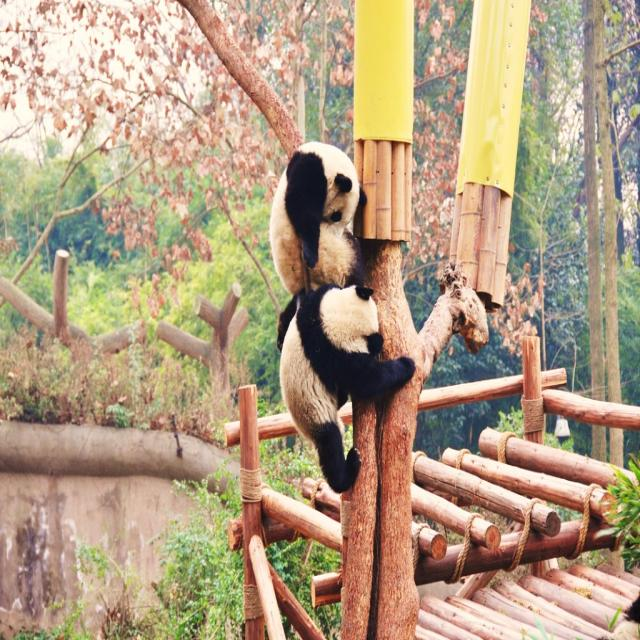panda: (274, 285, 418, 496), (266, 138, 370, 295)
